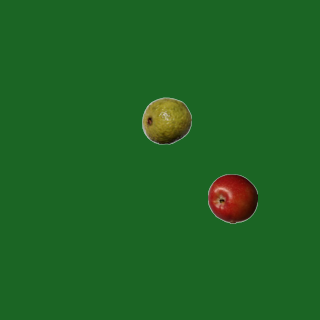Apple Braeburn: (207, 173, 257, 223)
Guava: (141, 95, 191, 145)
